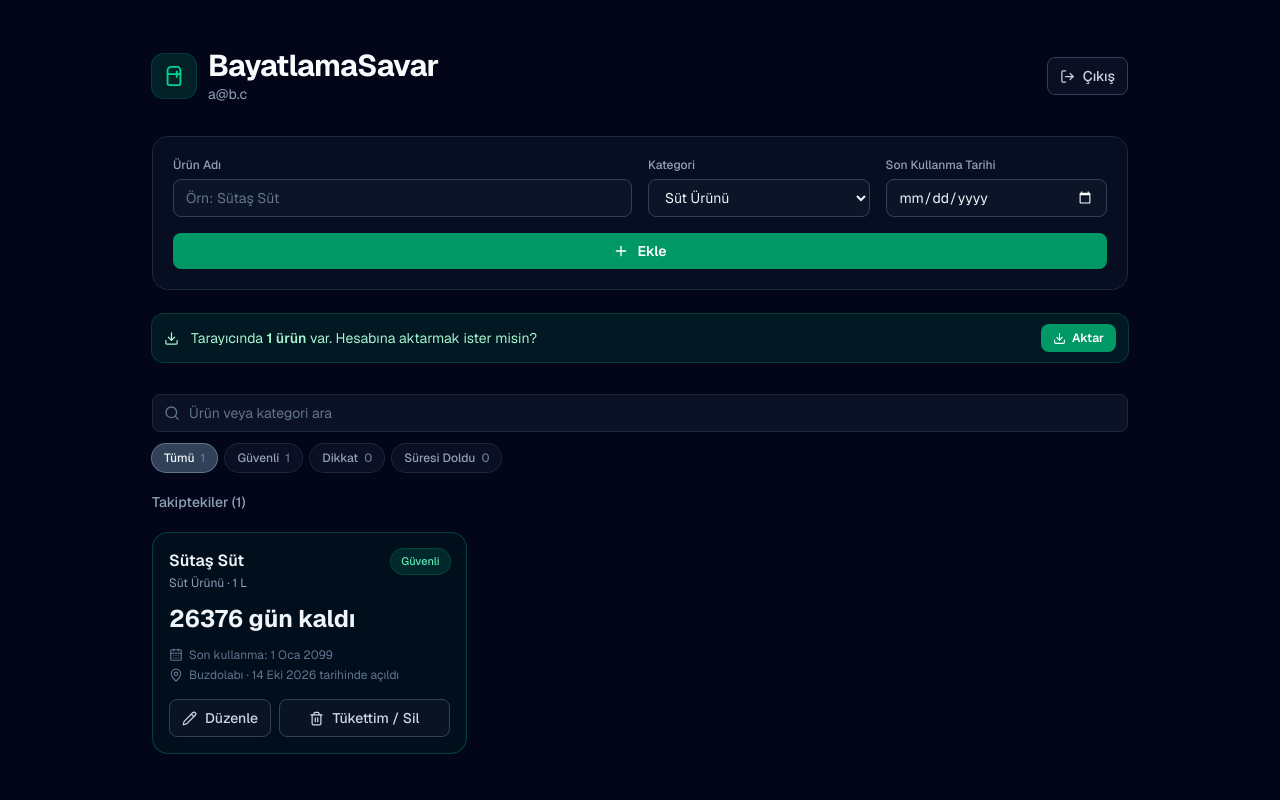
Test case: Ana sayfa — bütünleşme › eski veri varsa aktarım şeridi görünür, aktarımdan sonra kaybolur
Expected: the text "1 ürün" is shown, [267,329,306,347]
Step 1. Click the button "Aktar" → click(1078, 338), box [1041,324,1116,352]
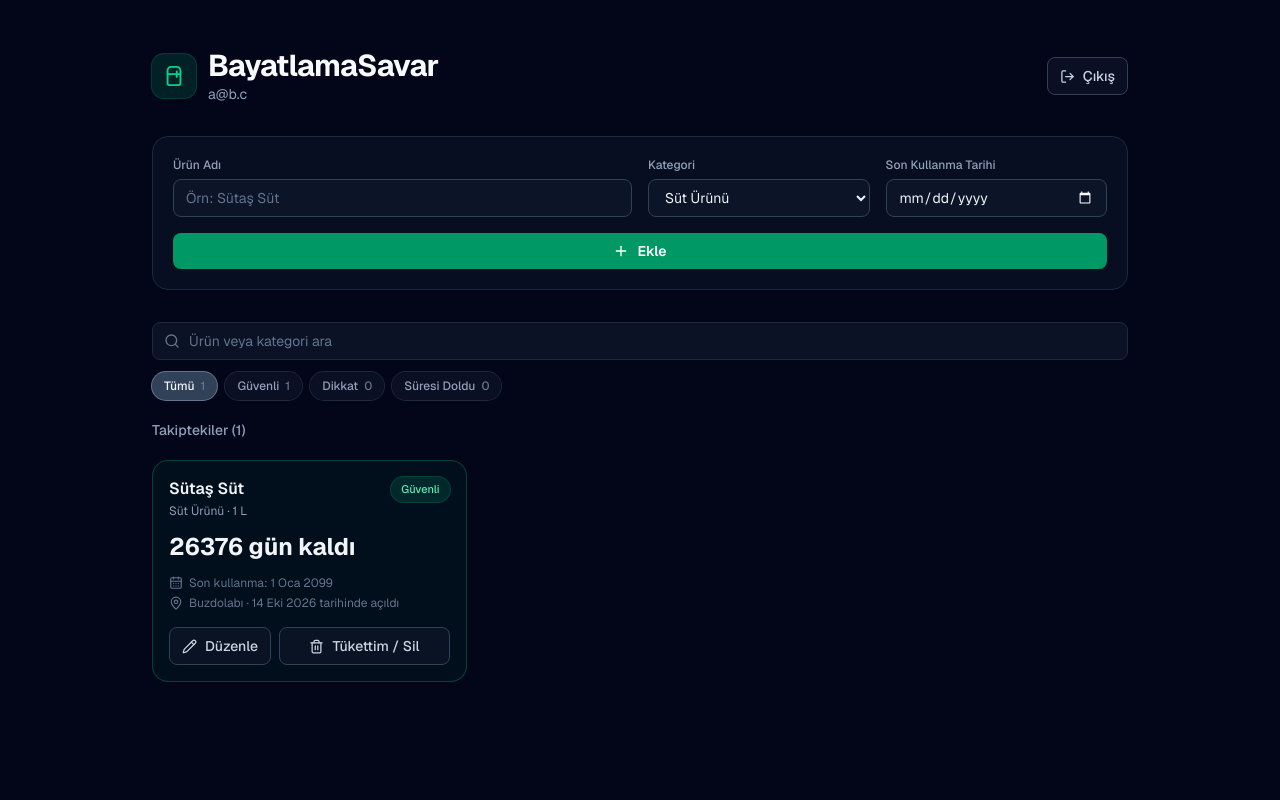
Result: the button "aktar" is gone
